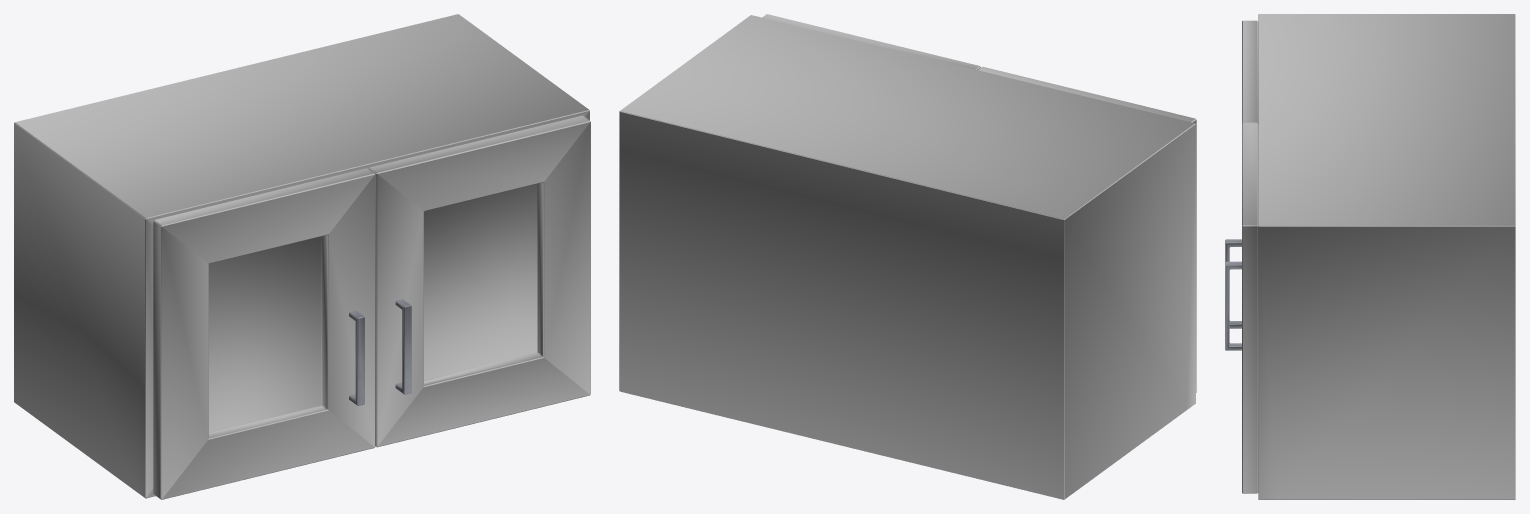
File: wall_cabinet.glb
3 renders of one model, left to right at view 1: azimuth 30°, elevation 25°; view 2: azimuth 150°, elevation 25°; view 3: azimuth 270°, elevation 25°, orthographic. The views are drawn at different scales.
Parts seen in each view (by area): view 1: Cabinet_Wall_DD_02, Door_L.004, Door_R.004, Pull.009, Pull.010; view 2: Cabinet_Wall_DD_02, Door_L.004, Door_R.004; view 3: Cabinet_Wall_DD_02, Door_R.004, Door_L.004, Pull.009.
Boxes of the visible parts, x1=… form: Cabinet_Wall_DD_02: x1=14, y1=14, x2=589, y2=498; Door_L.004: x1=153, y1=168, x2=375, y2=499; Door_R.004: x1=369, y1=115, x2=590, y2=447; Pull.009: x1=395, y1=299, x2=411, y2=394; Pull.010: x1=349, y1=310, x2=364, y2=405; Cabinet_Wall_DD_02: x1=619, y1=15, x2=1195, y2=499; Door_L.004: x1=978, y1=66, x2=1196, y2=392; Door_R.004: x1=762, y1=14, x2=980, y2=69; Cabinet_Wall_DD_02: x1=1258, y1=14, x2=1515, y2=499; Door_R.004: x1=1242, y1=123, x2=1258, y2=493; Door_L.004: x1=1242, y1=20, x2=1258, y2=123; Pull.009: x1=1225, y1=261, x2=1241, y2=350.
Size of the model in its own units: 1 by 0.6023 by 0.578.
2 materials, 1 textured.
